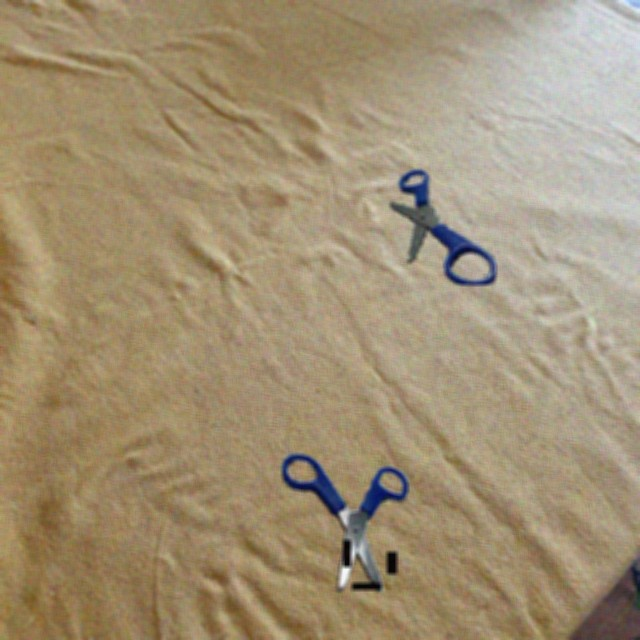scissors: (282, 453, 408, 592), (390, 169, 496, 285)
